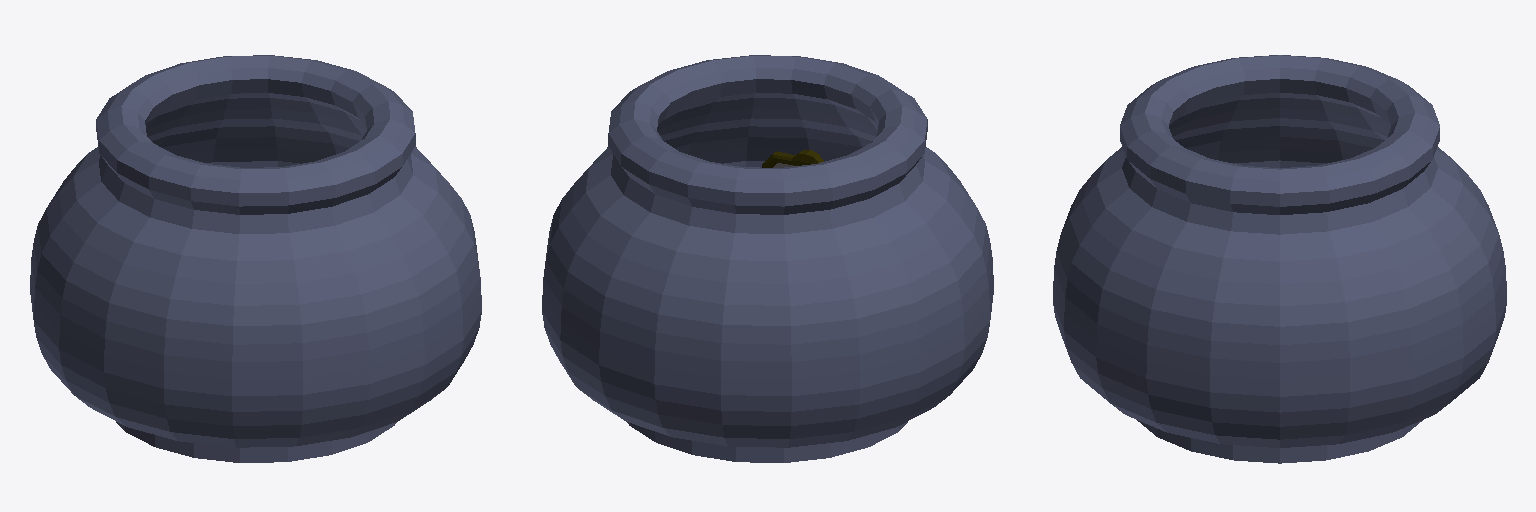
File: FishBowlScene.obj
3 renders of one model, left to right at view 1: azimuth 30°, elevation 25°; view 2: azimuth 150°, elevation 25°; view 3: azimuth 270°, elevation 25°, orthographic.
Parts seen in each view (by area): view 1: Bowl; view 2: Bowl, pCube3; view 3: Bowl.
Part boxes in pixels (left/top/right/bottom): Bowl: left=30, top=55, right=481, bottom=462; Bowl: left=542, top=55, right=993, bottom=462; pCube3: left=762, top=150, right=823, bottom=167; Bowl: left=1053, top=55, right=1506, bottom=463.
Bounding box in the file's own units: 15.24 × 10.61 × 15.24.